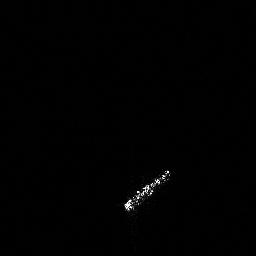ship: (118, 166, 175, 215)
